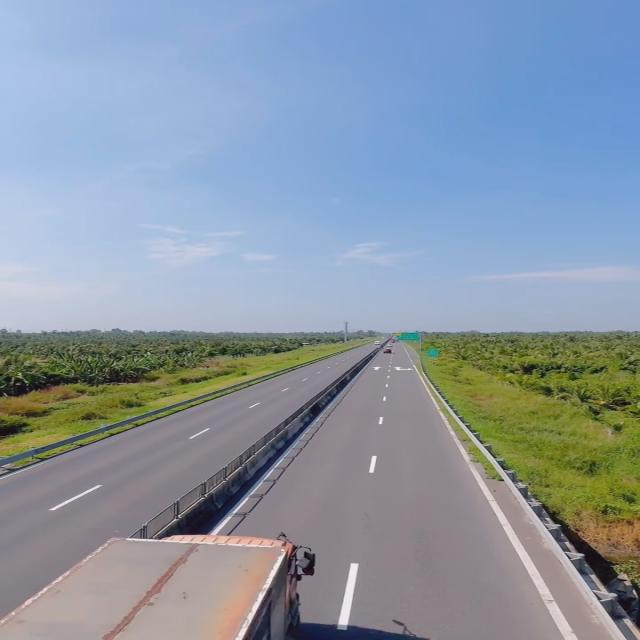truck: (2, 528, 316, 640)
